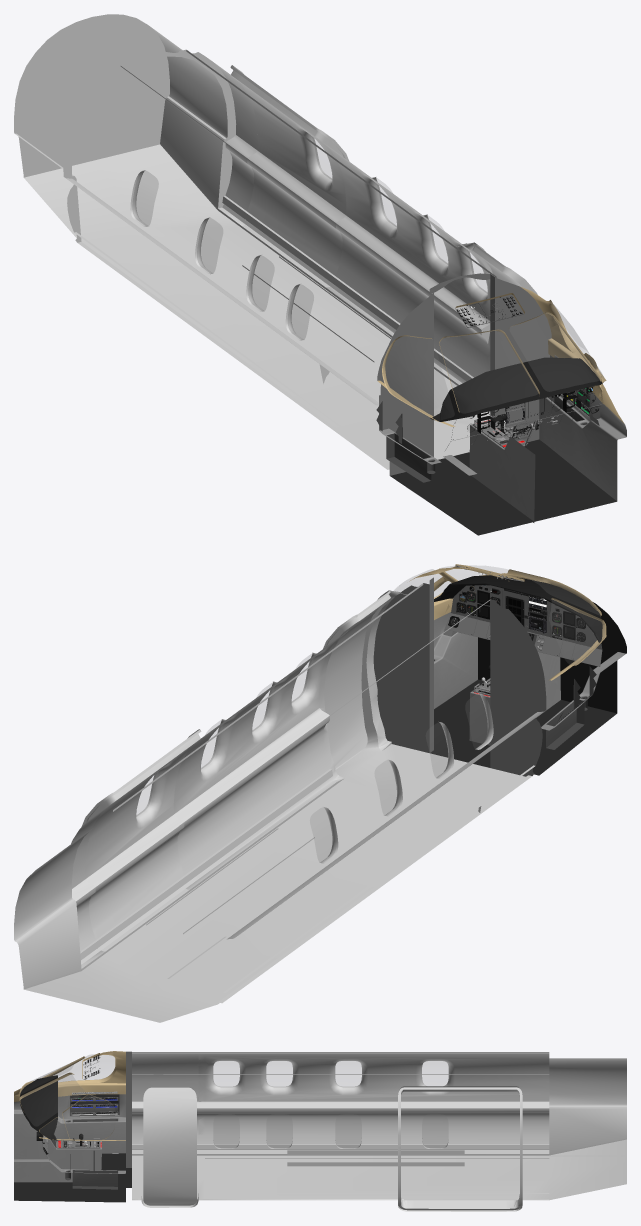
File: interior.gltf
3 views of the same model, one above another, from view 1: azimuth 30°, elevation 25°; view 2: azimuth 150°, elevation 25°; view 3: azimuth 270°, elevation 25° (orthographic). The views are drawn at different scales.
Visible parts, largest first — view 1: Interior; view 2: Interior; view 3: Interior.
Part boxes in pixels (x1,y1,x2,y2): Interior: (14,14,626,535); Interior: (14,564,626,1022); Interior: (14,1051,626,1211).
Bounding box in the file's own units: 1.68 × 1.58 × 6.91.
40 materials, 29 textured.
